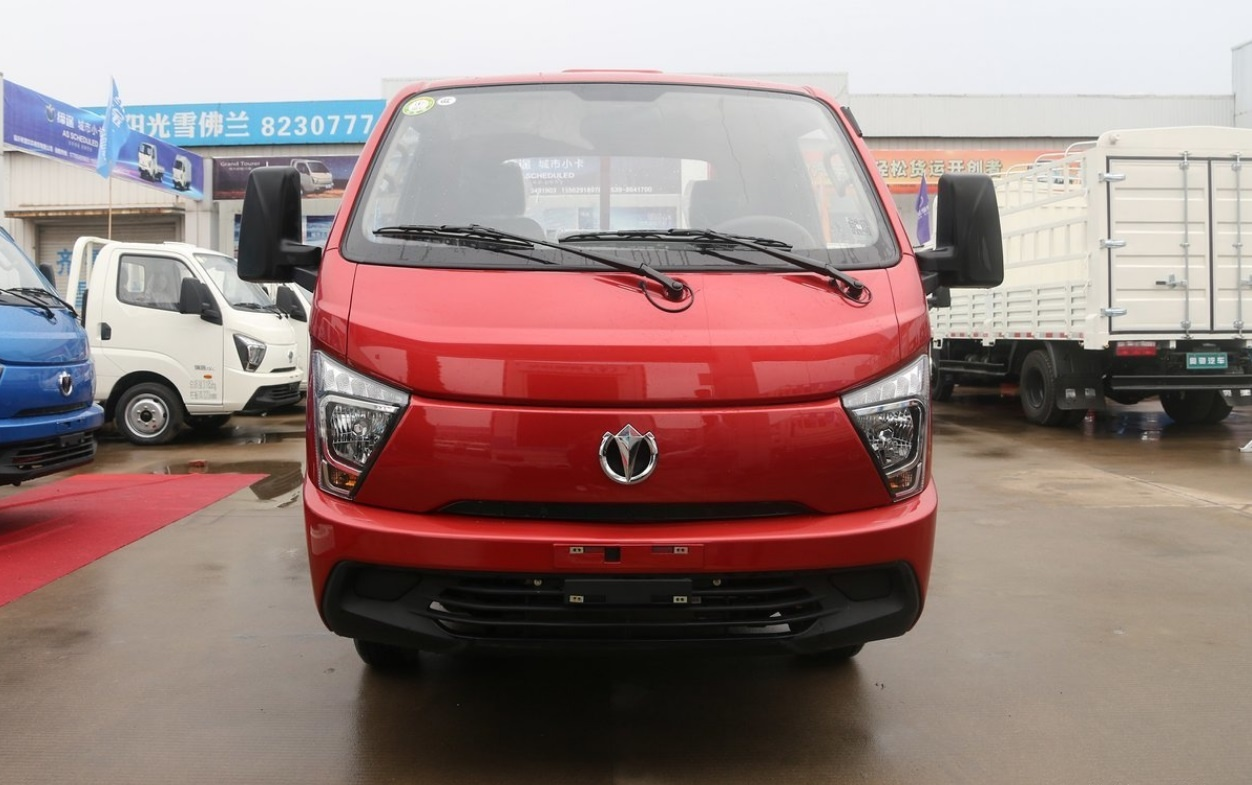truck: (241, 56, 1009, 684)
